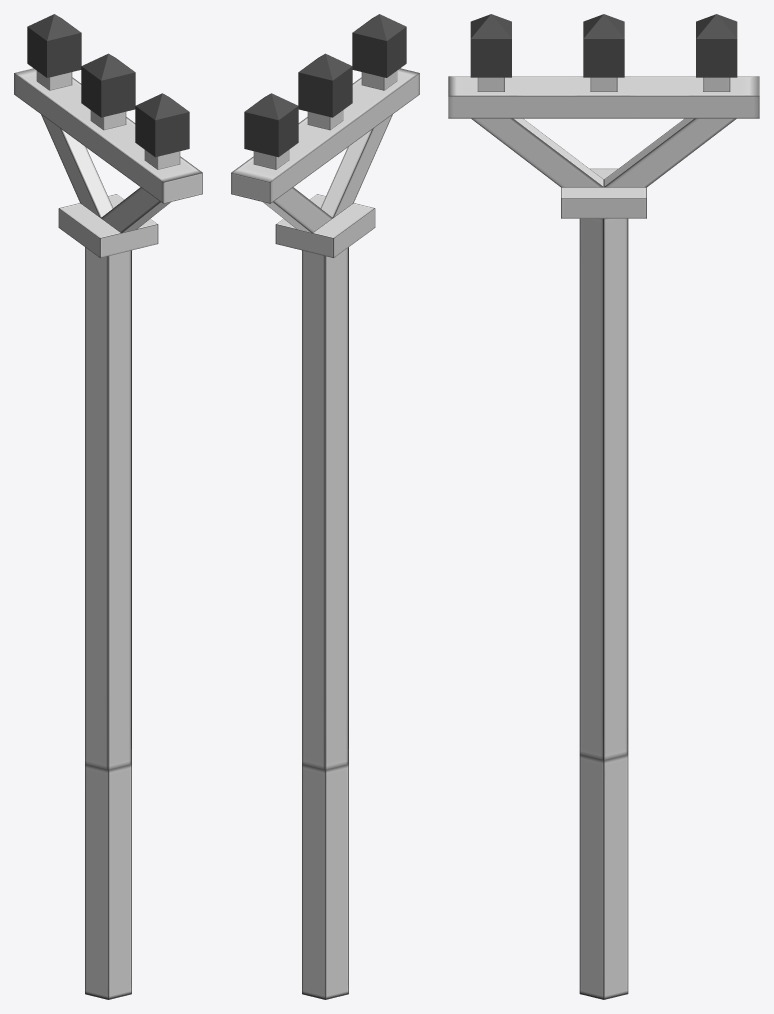
File: Utility-Pole-02.fbx
3 renders of one model, left to right at view 1: azimuth 30°, elevation 25°; view 2: azimuth 150°, elevation 25°; view 3: azimuth 270°, elevation 25°, orthographic. The views are drawn at different scales.
Visible parts, largest first — view 1: Utility_Pole_02; view 2: Utility_Pole_02; view 3: Utility_Pole_02.
Part boxes in pixels (x1,y1,x2,y2): Utility_Pole_02: (14,14,202,999); Utility_Pole_02: (231,14,419,999); Utility_Pole_02: (448,14,759,999).
Bounding box in the file's own units: 0.1705 × 2.63 × 0.7603.
